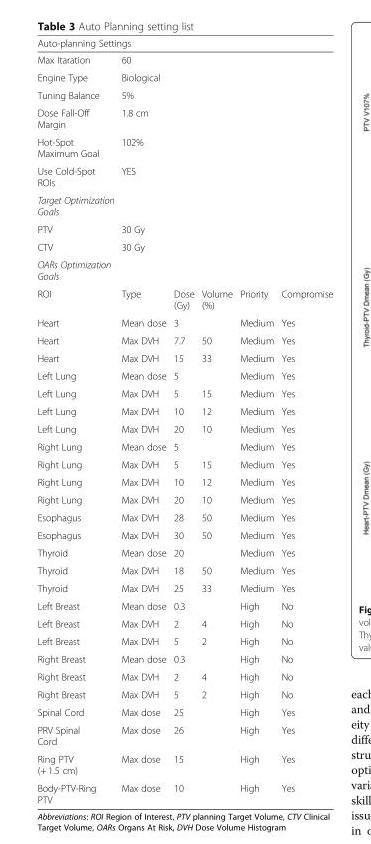table: (36, 37, 332, 804)
table column: (36, 37, 109, 804), (109, 37, 169, 804), (276, 37, 332, 804), (235, 37, 276, 804), (197, 37, 235, 804), (169, 37, 197, 804)
table column header: (36, 37, 332, 68)
table projected row header: (36, 190, 332, 219), (36, 255, 332, 284)
table row: (36, 103, 332, 132), (36, 132, 332, 161), (36, 161, 332, 190), (36, 190, 332, 219), (36, 255, 332, 284), (36, 284, 332, 313), (36, 720, 332, 749), (36, 749, 332, 778), (36, 778, 332, 804), (36, 85, 332, 103), (36, 219, 332, 237), (36, 237, 332, 255), (36, 313, 332, 331), (36, 348, 332, 366), (36, 366, 332, 384), (36, 384, 332, 402), (36, 419, 332, 437), (36, 437, 332, 455), (36, 472, 332, 490), (36, 490, 332, 508), (36, 525, 332, 543), (36, 543, 332, 561), (36, 561, 332, 579), (36, 596, 332, 614), (36, 614, 332, 632), (36, 649, 332, 667), (36, 667, 332, 685), (36, 702, 332, 720), (36, 51, 332, 68), (36, 68, 332, 85), (36, 331, 332, 348), (36, 402, 332, 419), (36, 455, 332, 472), (36, 508, 332, 525), (36, 579, 332, 596), (36, 632, 332, 649), (36, 685, 332, 702), (36, 37, 332, 51)
table spanning cell: (36, 37, 332, 51)
